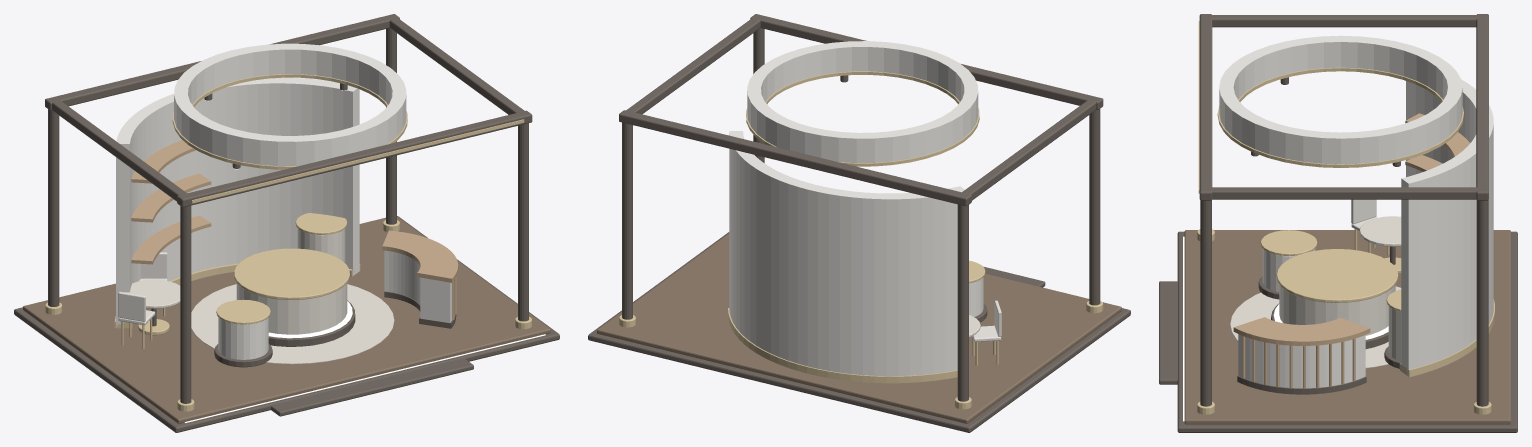
File: booth_01_signature_ring_v27_4.glb
3 renders of one model, left to right at view 1: azimuth 30°, elevation 25°; view 2: azimuth 150°, elevation 25°; view 3: azimuth 270°, elevation 25°, orthographic. The views are drawn at different scales.
Visible parts, largest first — view 1: MatGroup_WarmPlaster, MatGroup_DarkBronze, MatGroup_WalnutFloor, MatGroup_ChampagneBrass, MatGroup_TravertineStone, MatGroup_FlutedOak, MatGroup_CreamBoucle, MatGroup_WarmCoveLED; view 2: MatGroup_WarmPlaster, MatGroup_DarkBronze, MatGroup_WalnutFloor, MatGroup_ChampagneBrass, MatGroup_CreamBoucle; view 3: MatGroup_WarmPlaster, MatGroup_WalnutFloor, MatGroup_DarkBronze, MatGroup_ChampagneBrass, MatGroup_TravertineStone, MatGroup_FlutedOak, MatGroup_CreamBoucle, MatGroup_WarmCoveLED.
Part boxes in pixels (x1,y1,x2,y2): MatGroup_WarmPlaster: (116,43,452,359); MatGroup_DarkBronze: (14,14,559,432); MatGroup_WalnutFloor: (23,216,550,423); MatGroup_ChampagneBrass: (45,74,531,411); MatGroup_TravertineStone: (124,228,394,364); MatGroup_FlutedOak: (131,140,458,319); MatGroup_CreamBoucle: (118,252,167,325); MatGroup_WarmCoveLED: (184,90,545,422); MatGroup_WarmPlaster: (729,41,983,376); MatGroup_DarkBronze: (588,14,1130,432); MatGroup_WalnutFloor: (597,233,1121,423); MatGroup_ChampagneBrass: (619,71,1103,409); MatGroup_CreamBoucle: (972,300,1001,341); MatGroup_WarmPlaster: (1219,35,1493,388); MatGroup_WalnutFloor: (1184,230,1510,424); MatGroup_DarkBronze: (1159,14,1517,432); MatGroup_ChampagneBrass: (1197,21,1494,414); MatGroup_TravertineStone: (1230,216,1401,368); MatGroup_FlutedOak: (1233,113,1470,388); MatGroup_CreamBoucle: (1351,199,1377,231); MatGroup_WarmCoveLED: (1183,84,1399,421).
Bounding box in the file's own units: 6.72 × 3.96 × 5.19.
